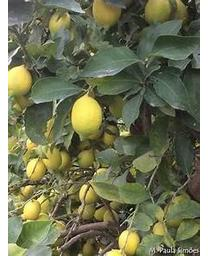lemon: (72, 95, 104, 141), (93, 1, 123, 28), (147, 0, 173, 26), (9, 66, 31, 96), (118, 228, 142, 253), (28, 159, 45, 179), (25, 198, 41, 218), (82, 185, 98, 204)
